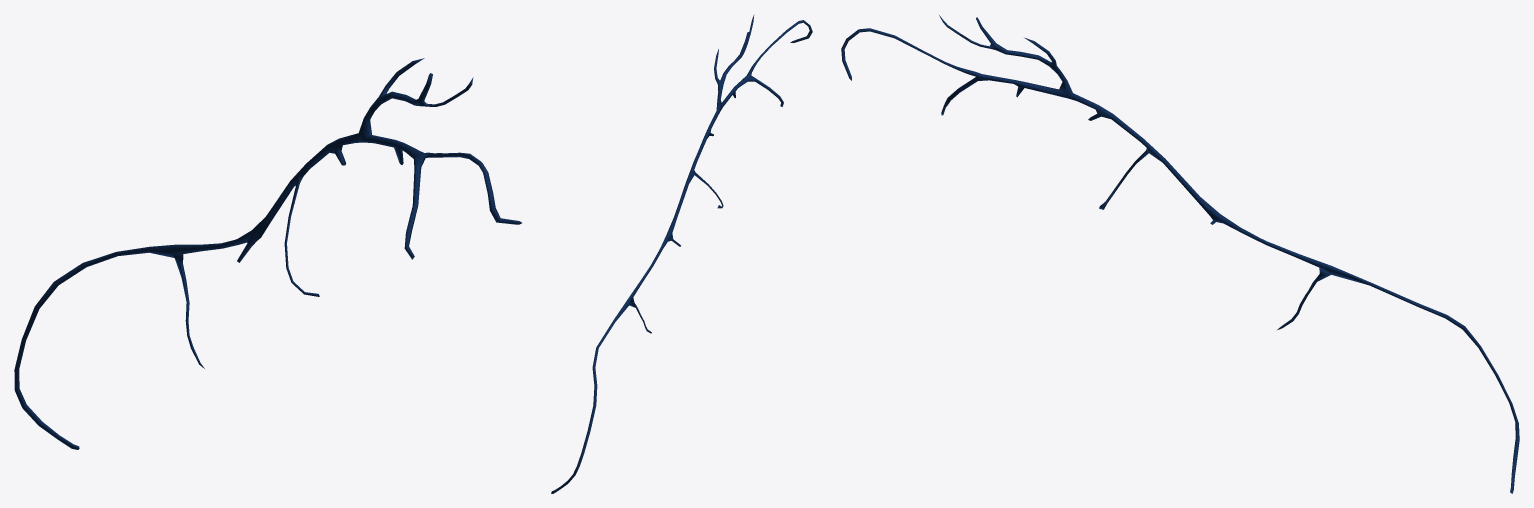
File: R vena cervicalis profunda.fbx
3 renders of one model, left to right at view 1: azimuth 30°, elevation 25°; view 2: azimuth 150°, elevation 25°; view 3: azimuth 270°, elevation 25°, orthographic. The views are drawn at different scales.
Visible parts, largest first — view 1: R vena cervicalis profunda, R vena cervicalis profunda low; view 2: R vena cervicalis profunda; view 3: R vena cervicalis profunda.
Part boxes in pixels (box(x1,y1,x2,y2)): R vena cervicalis profunda: box(14, 58, 521, 449); R vena cervicalis profunda low: box(16, 73, 497, 447); R vena cervicalis profunda: box(551, 14, 812, 493); R vena cervicalis profunda: box(841, 15, 1519, 493).
Size of the model in its own units: 3.15 by 26.82 by 34.48.
